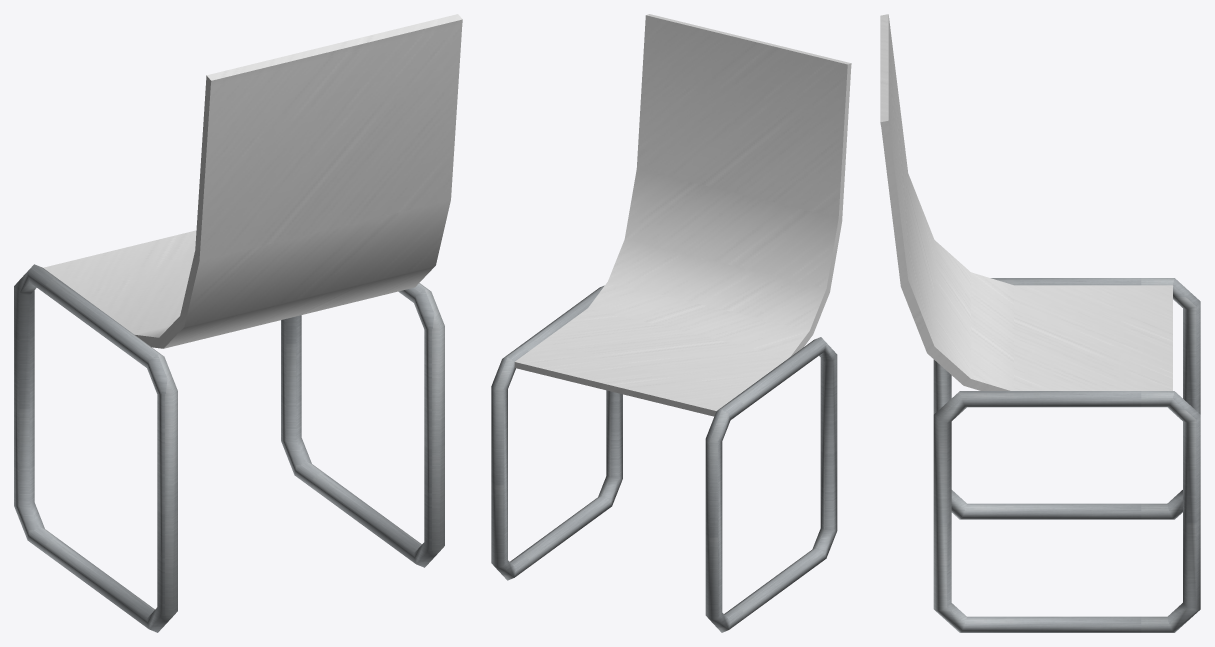
File: Dining Chair SHC QuickOffice.fbx
3 renders of one model, left to right at view 1: azimuth 30°, elevation 25°; view 2: azimuth 150°, elevation 25°; view 3: azimuth 270°, elevation 25°, orthographic. The views are drawn at different scales.
Visible parts, largest first — view 1: Component_186_1, Component_182_2, Component_182_1; view 2: Component_186_1, Component_182_2, Component_182_1; view 3: Component_186_1, Component_182_1, Component_182_2.
Part boxes in pixels (box(x1,y1,x2,y2)): Component_186_1: box(43, 14, 462, 348); Component_182_2: box(14, 264, 177, 632); Component_182_1: box(281, 283, 444, 567); Component_186_1: box(514, 14, 851, 416); Component_182_2: box(705, 337, 837, 632); Component_182_1: box(491, 285, 622, 580); Component_186_1: box(880, 14, 1172, 390); Component_182_1: box(933, 391, 1200, 632); Component_182_2: box(933, 278, 1200, 519).
Size of what is drawn, in the model's own units: 0.5146 by 1.02 by 0.5819.
